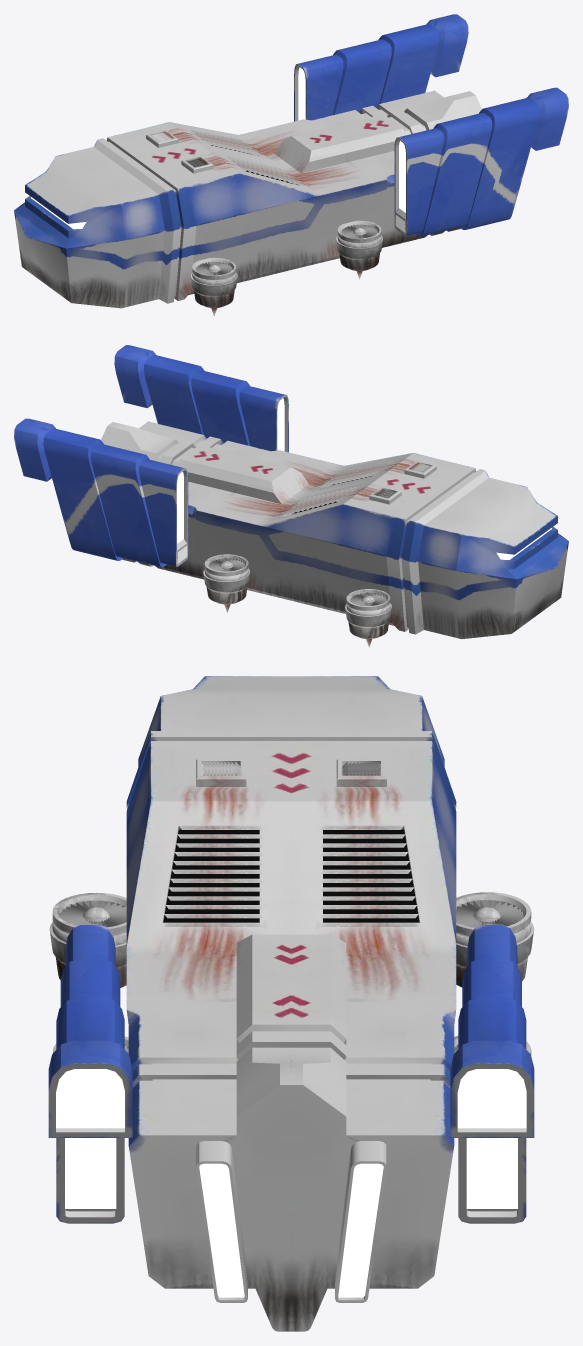
File: SpaceShip.gltf
The picture shows the model from 3 angles, top to bottom: view 1: azimuth 30°, elevation 25°; view 2: azimuth 150°, elevation 25°; view 3: azimuth 270°, elevation 25°; orthographic projection. The views are drawn at different scales.
Parts seen in each view (by area): view 1: Main_Body, Thrusters, Turbine_B_Right, Turbine_F_Right; view 2: Main_Body, Thrusters, Turbine_B_Left, Turbine_F_Left; view 3: Main_Body, Thrusters, Turbine_F_Left, Turbine_F_Right.
Part boxes in pixels (bbox=[...]): Main_Body: bbox=[14, 90, 481, 308]; Thrusters: bbox=[294, 14, 568, 236]; Turbine_B_Right: bbox=[336, 220, 382, 279]; Turbine_F_Right: bbox=[191, 257, 237, 316]; Main_Body: bbox=[101, 421, 568, 638]; Thrusters: bbox=[14, 345, 288, 567]; Turbine_B_Left: bbox=[203, 554, 250, 612]; Turbine_F_Left: bbox=[345, 589, 391, 647]; Main_Body: bbox=[126, 676, 456, 1331]; Thrusters: bbox=[48, 924, 534, 1223]; Turbine_F_Left: bbox=[456, 892, 534, 987]; Turbine_F_Right: bbox=[49, 892, 126, 987].
Size of the model in its own units: 7.25 by 2.19 by 3.14.
Materials: 5 (2 with a texture image).
